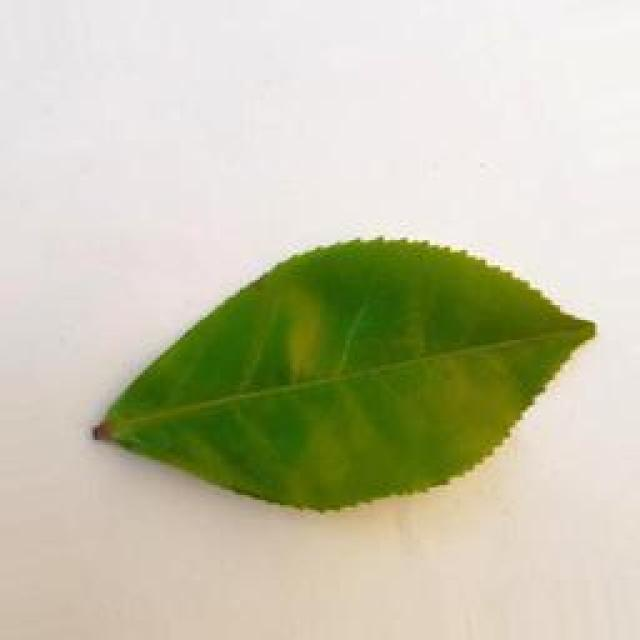Healthy: (95, 230, 602, 520)
